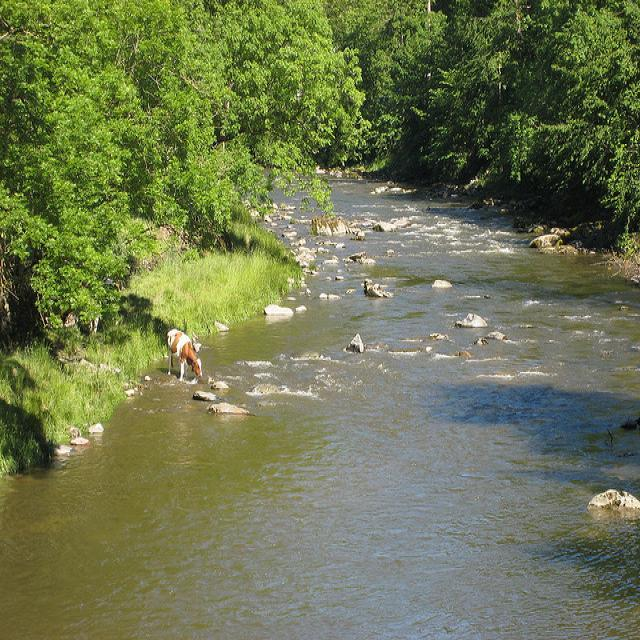cow: (165, 327, 202, 377)
